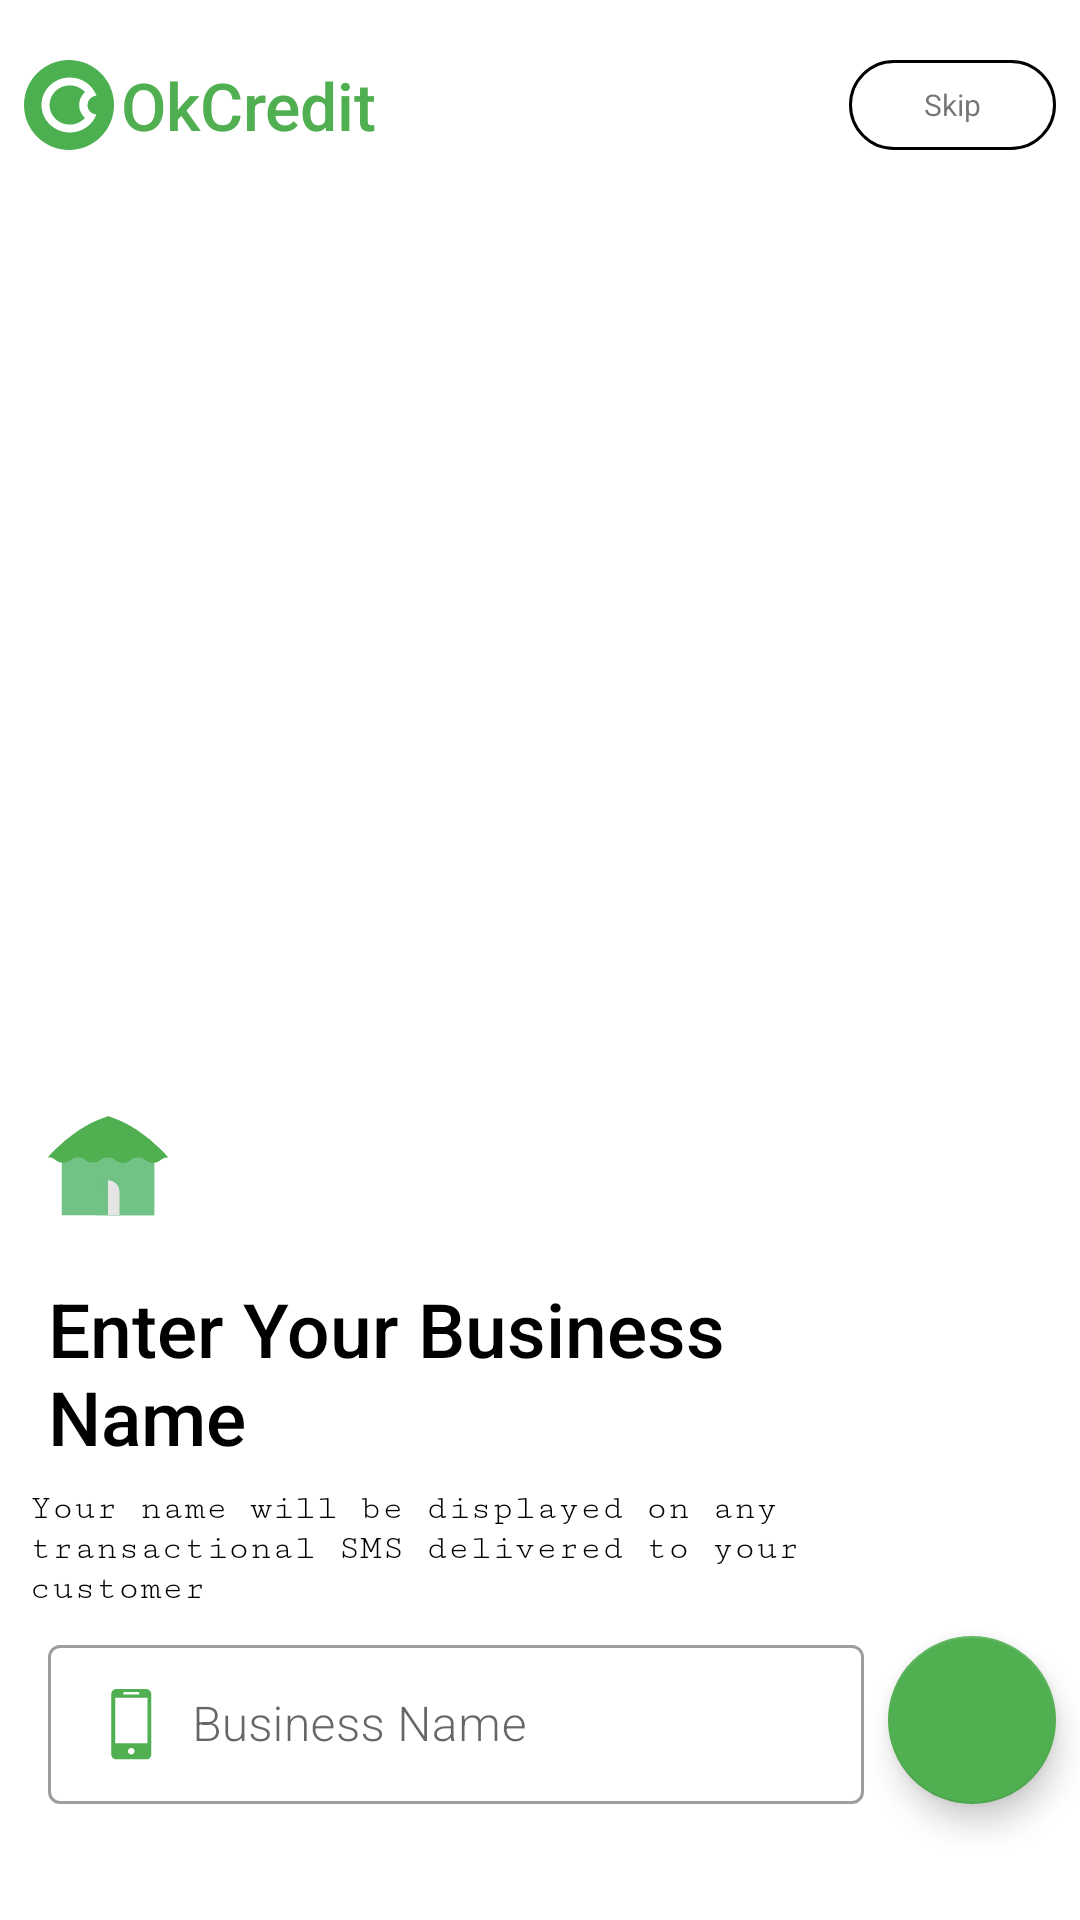

Where to tap for icons on this 1080x1920 app screen, as point (x, y):
hut: point (108, 1166)
